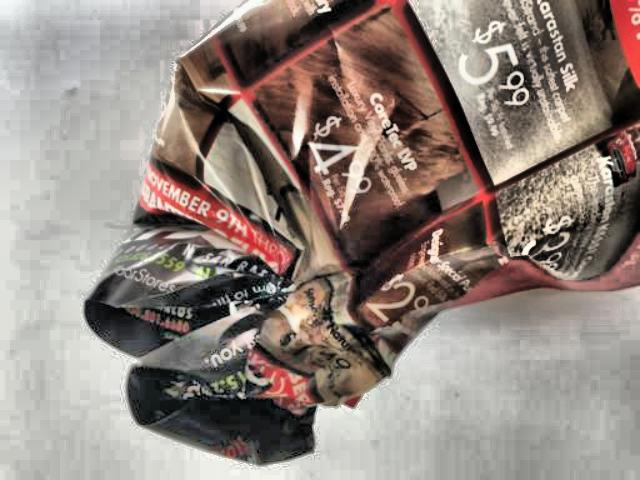Paper: (82, 0, 639, 462)
